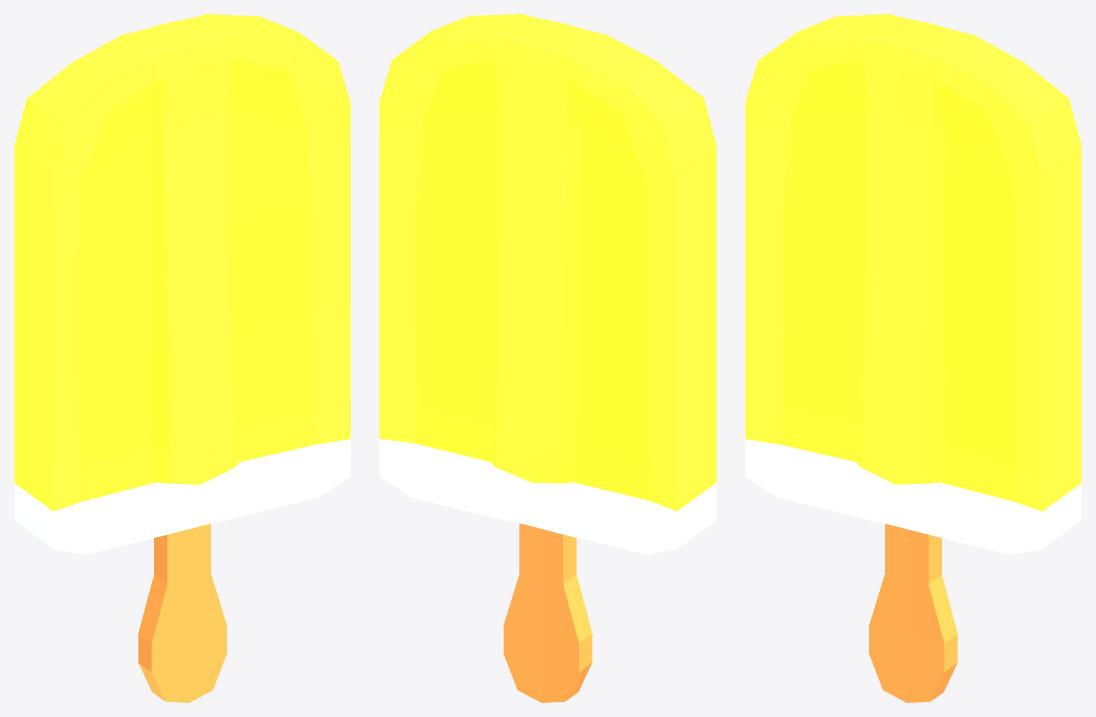
The model's file is ice_cream.glb.
The picture shows the model from 3 angles, left to right: view 1: azimuth 30°, elevation 25°; view 2: azimuth 150°, elevation 25°; view 3: azimuth 330°, elevation 25°; orthographic projection.
Visible parts, largest first — view 1: Cube; view 2: Cube; view 3: Cube.
Boxes of the visible parts, <box> form: Cube: <box>14,14,350,702</box>; Cube: <box>379,14,716,702</box>; Cube: <box>745,14,1081,702</box>.
Size of the model in its own units: 99.98 by 213 by 22.91.
